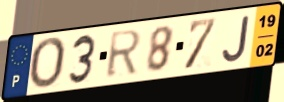3: (66, 32, 97, 86)
7: (184, 16, 218, 72)
8: (145, 24, 175, 74)
J: (220, 13, 253, 64)
O: (28, 36, 69, 91)
R: (105, 27, 144, 80)
